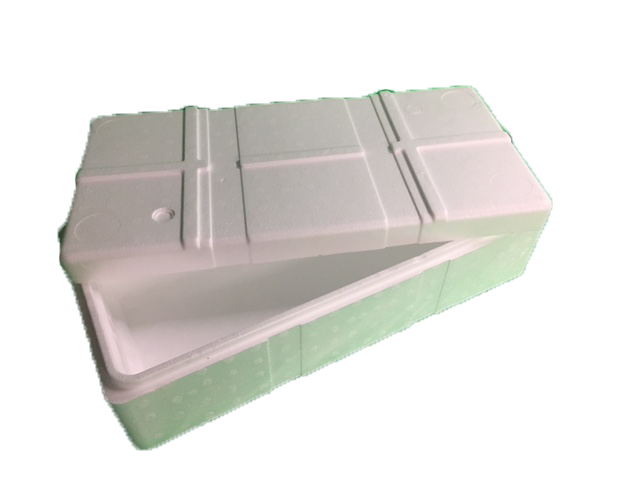Foam Box: (54, 80, 559, 454)
